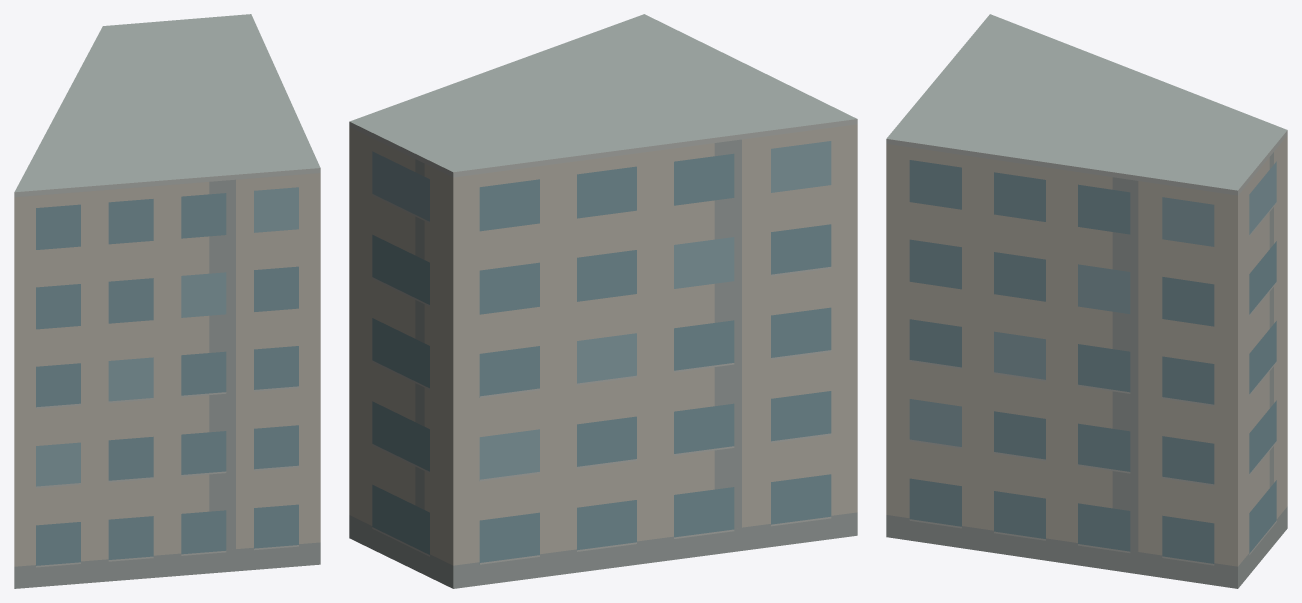
File: survey-upis-33003297.glb
3 renders of one model, left to right at view 1: azimuth 30°, elevation 25°; view 2: azimuth 150°, elevation 25°; view 3: azimuth 270°, elevation 25°, orthographic. The views are drawn at different scales.
Parts seen in each view (by area): view 1: survey-upis-33003297.tmp; view 2: survey-upis-33003297.tmp; view 3: survey-upis-33003297.tmp.
Part boxes in pixels (x1,y1,x2,y2): survey-upis-33003297.tmp: (14, 14, 320, 588); survey-upis-33003297.tmp: (349, 14, 857, 588); survey-upis-33003297.tmp: (886, 14, 1287, 588).
Size of the model in its own units: 18.38 by 19.32 by 17.66.
